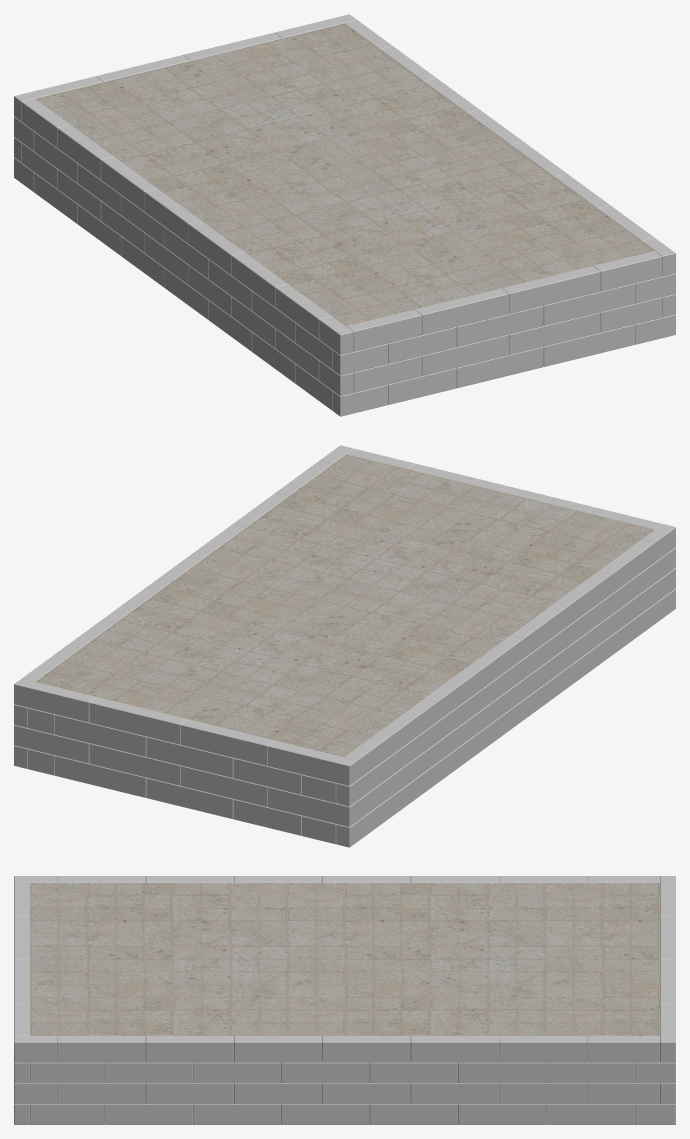
Rendered from SM_Gidan02G.fbx.
The picture shows the model from 3 angles, top to bottom: view 1: azimuth 30°, elevation 25°; view 2: azimuth 150°, elevation 25°; view 3: azimuth 270°, elevation 25°; orthographic projection.
Visible parts, largest first — view 1: SM_Gidan02G; view 2: SM_Gidan02G; view 3: SM_Gidan02G.
Part boxes in pixels (x1,y1,x2,y2): SM_Gidan02G: [14, 14, 675, 416]; SM_Gidan02G: [14, 445, 675, 847]; SM_Gidan02G: [14, 876, 675, 1124].
Bounding box in the file's own units: 612 × 1030 × 143.
